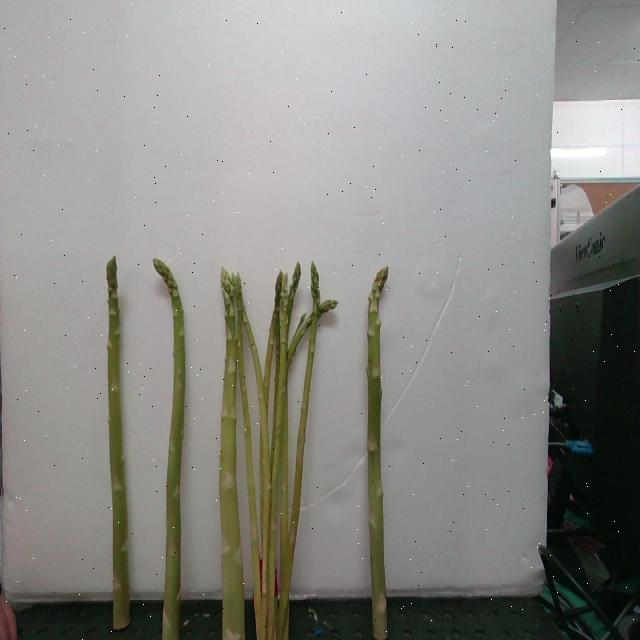aspargus: (154, 261, 186, 640), (103, 258, 128, 639), (364, 269, 387, 640)
